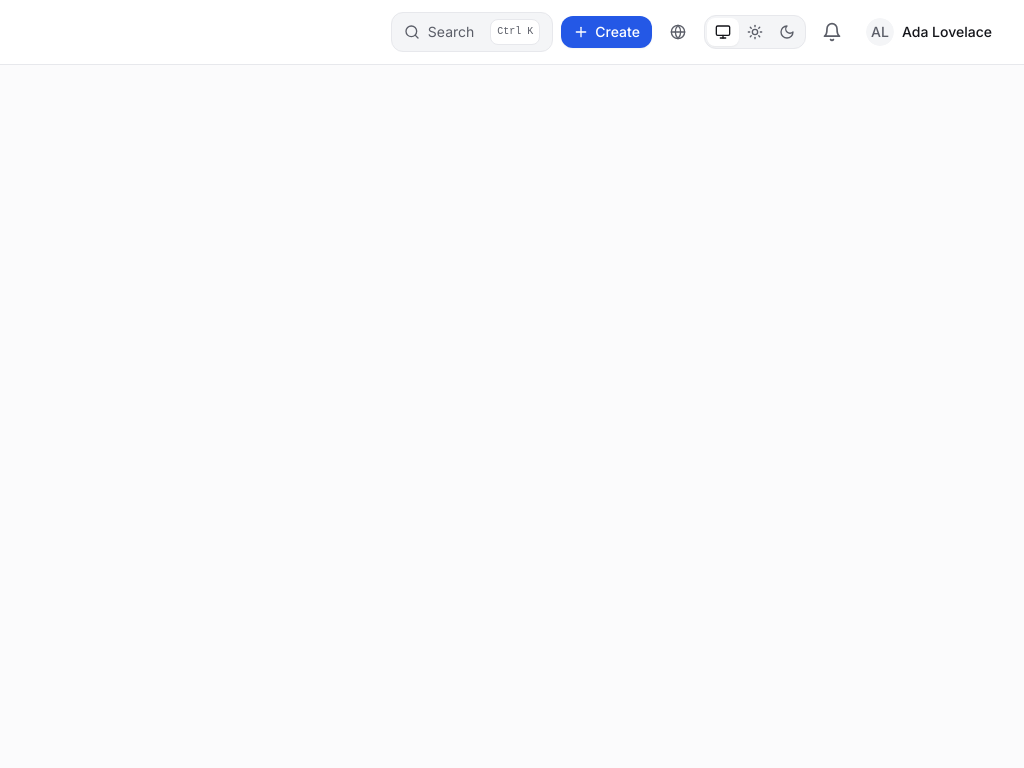
Scenario: MarketingHeader — edit profile / phone + SMS-2FA currentPassword gate › does not show a current-password field until the phone number is actually edited
What coordinates should you click on to do the following:
click the text "Ada Lovelace"
I would click on:
 (947, 32)
Its box is [902,22,992,42].
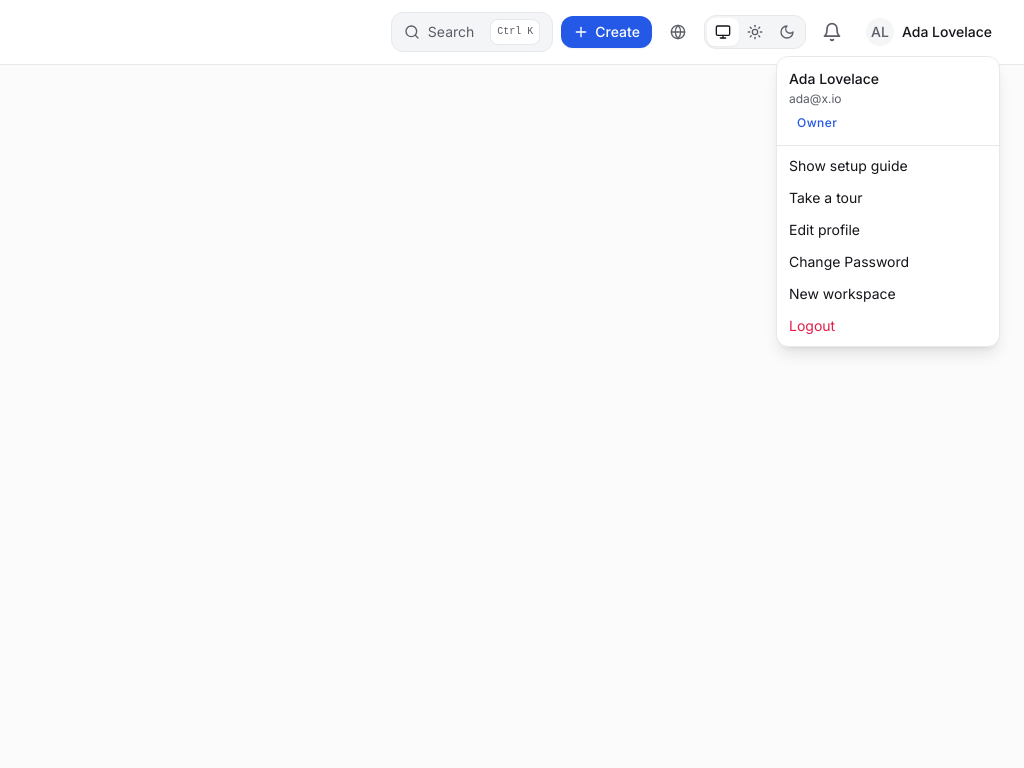
What coordinates should you click on to do the following:
click the menu item "Edit profile"
I would click on:
 (824, 230)
Its box is [789,221,860,238].
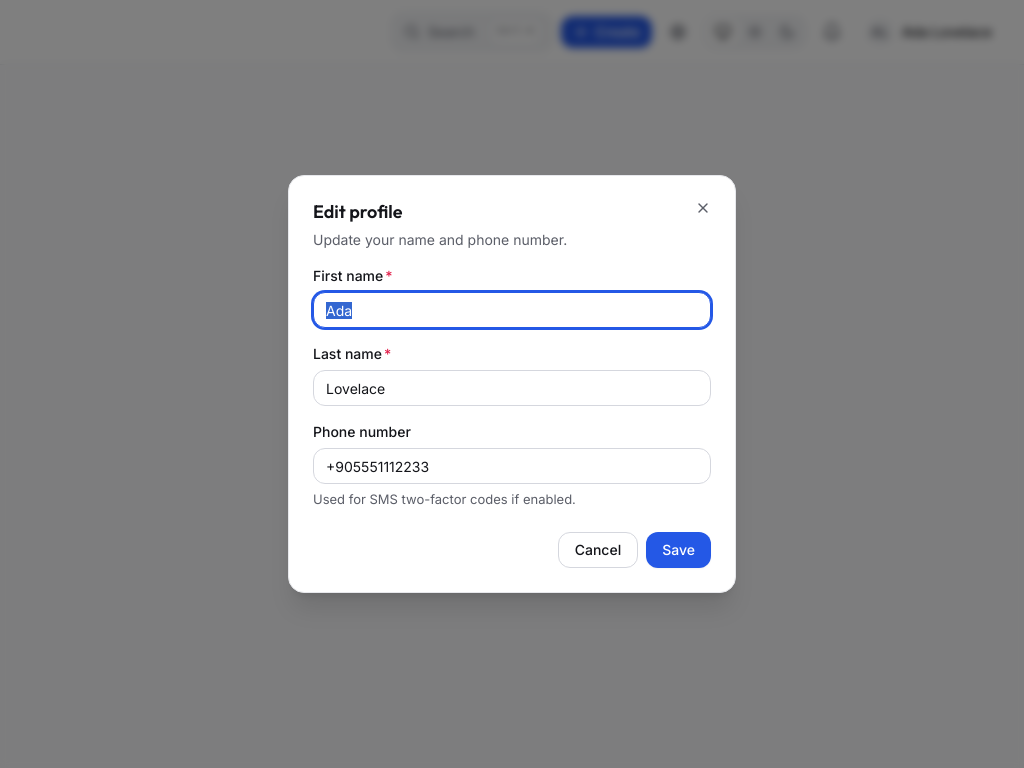
Expected: the field labelled "First name*" is shown, [313,292,711,328]
